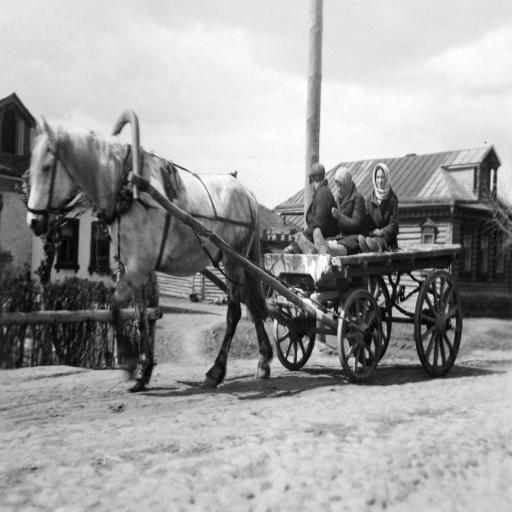horse: (22, 114, 274, 394)
